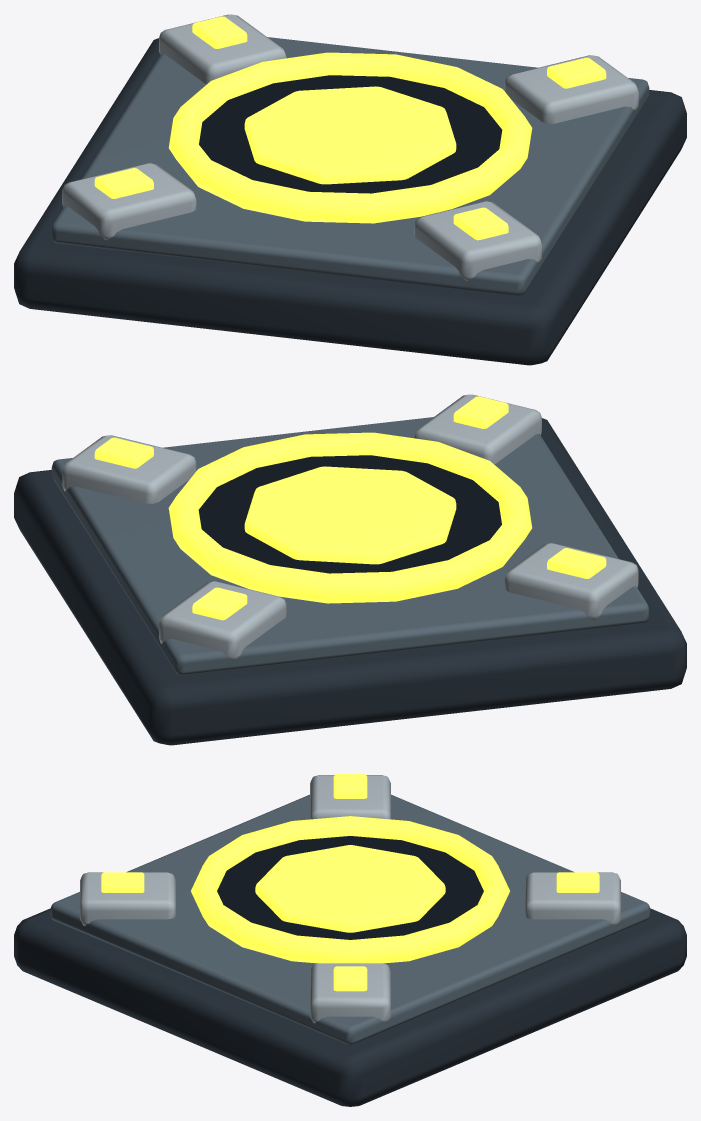
The model's file is pulse_plate.fbx.
3 views of the same model, one above another, from view 1: azimuth 30°, elevation 25°; view 2: azimuth 150°, elevation 25°; view 3: azimuth 270°, elevation 25° (orthographic). The views are drawn at different scales.
Parts seen in each view (by area): view 1: Base_Geometry; view 2: Base_Geometry; view 3: Base_Geometry.
Part boxes in pixels (x1,y1,x2,y2): Base_Geometry: (14, 14, 686, 365); Base_Geometry: (14, 394, 686, 745); Base_Geometry: (14, 774, 686, 1106).
Bounding box in the file's own units: 1.33 × 0.2055 × 1.33.
